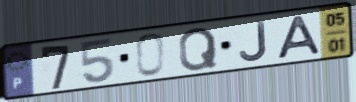0: (133, 31, 169, 80)
5: (78, 36, 116, 85)
7: (39, 44, 72, 91)
A: (273, 14, 324, 61)
J: (237, 19, 270, 64)
Q: (177, 25, 220, 73)
